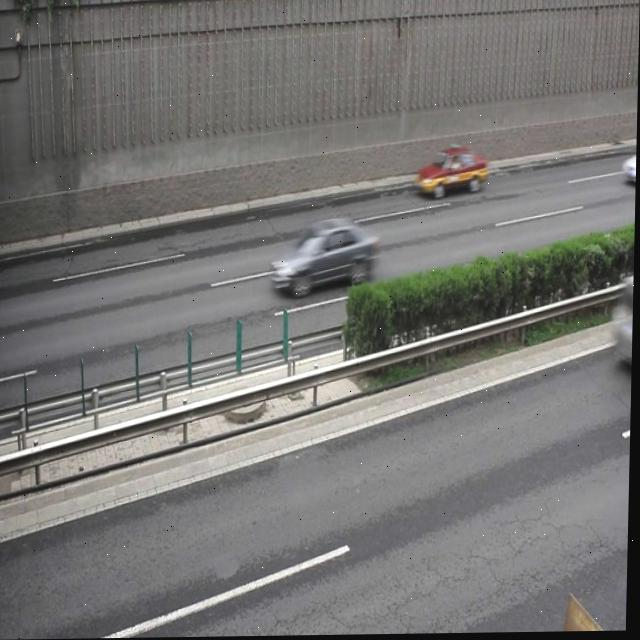car: (272, 217, 379, 296), (416, 145, 489, 200)
